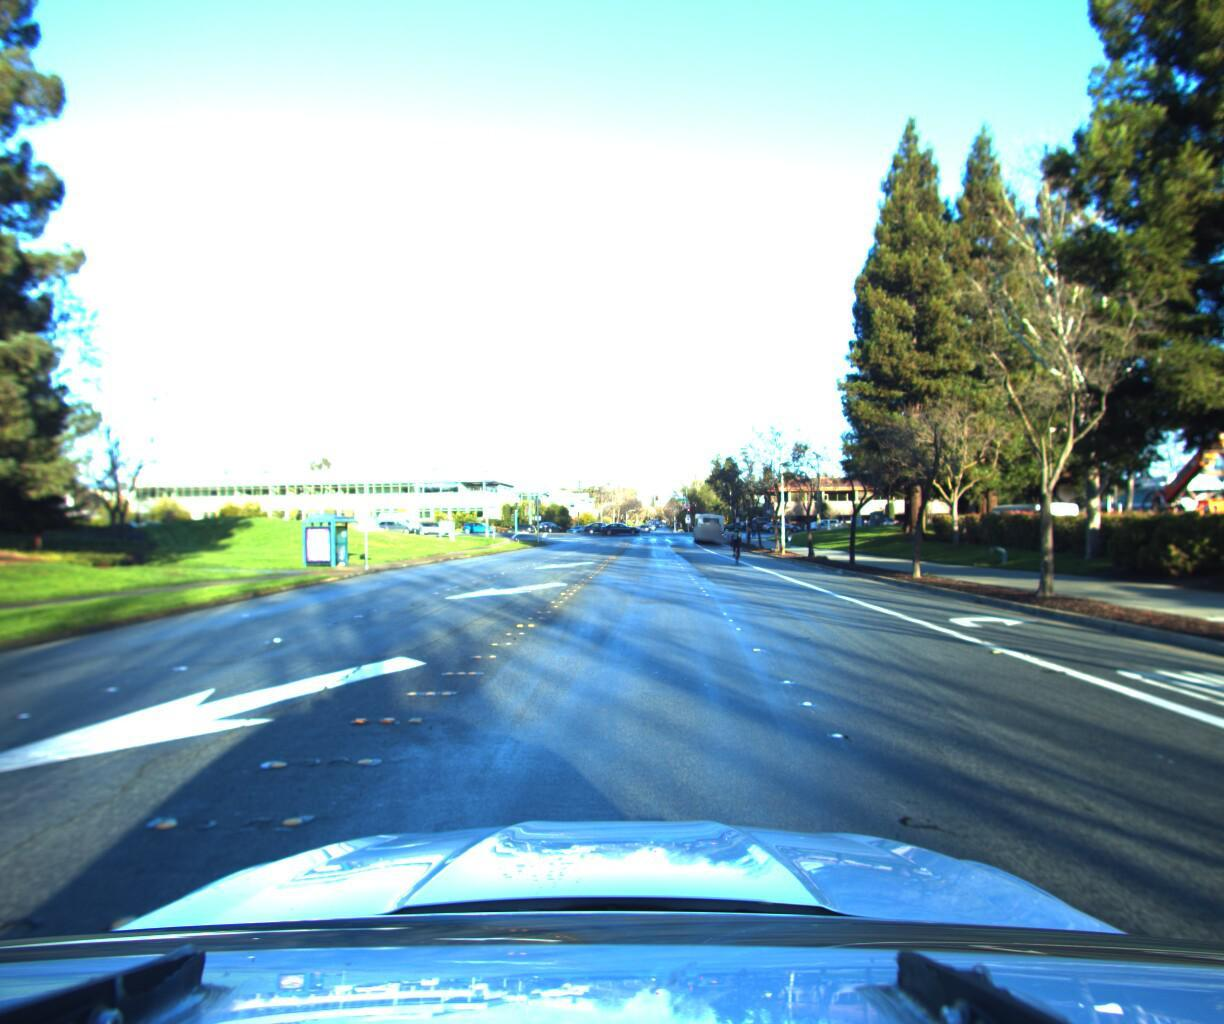bicycle: (724, 519, 744, 559), (781, 519, 797, 543)
bus: (693, 503, 726, 539)
other_vehicle: (1127, 409, 1224, 565), (980, 490, 1092, 540)
